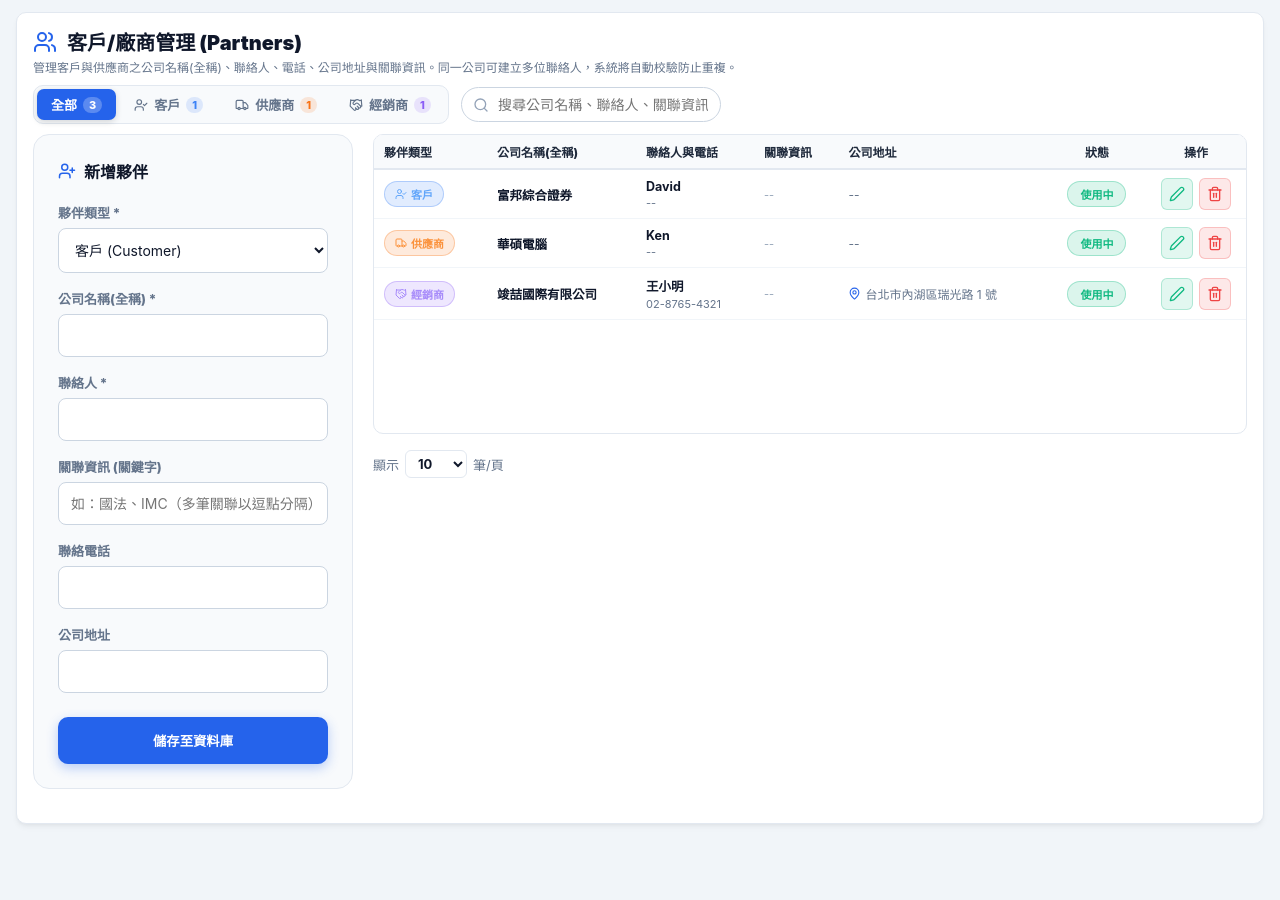
Test: 客戶/廠商管理：經銷商 › 列表上標示為經銷商，並有經銷商篩選
Check: the text "經銷商" is shown, box x1=384 y1=280 x2=455 y2=306
Click the button "經銷商 1" at (390, 104), box x1=335 y1=89 x2=445 y2=120
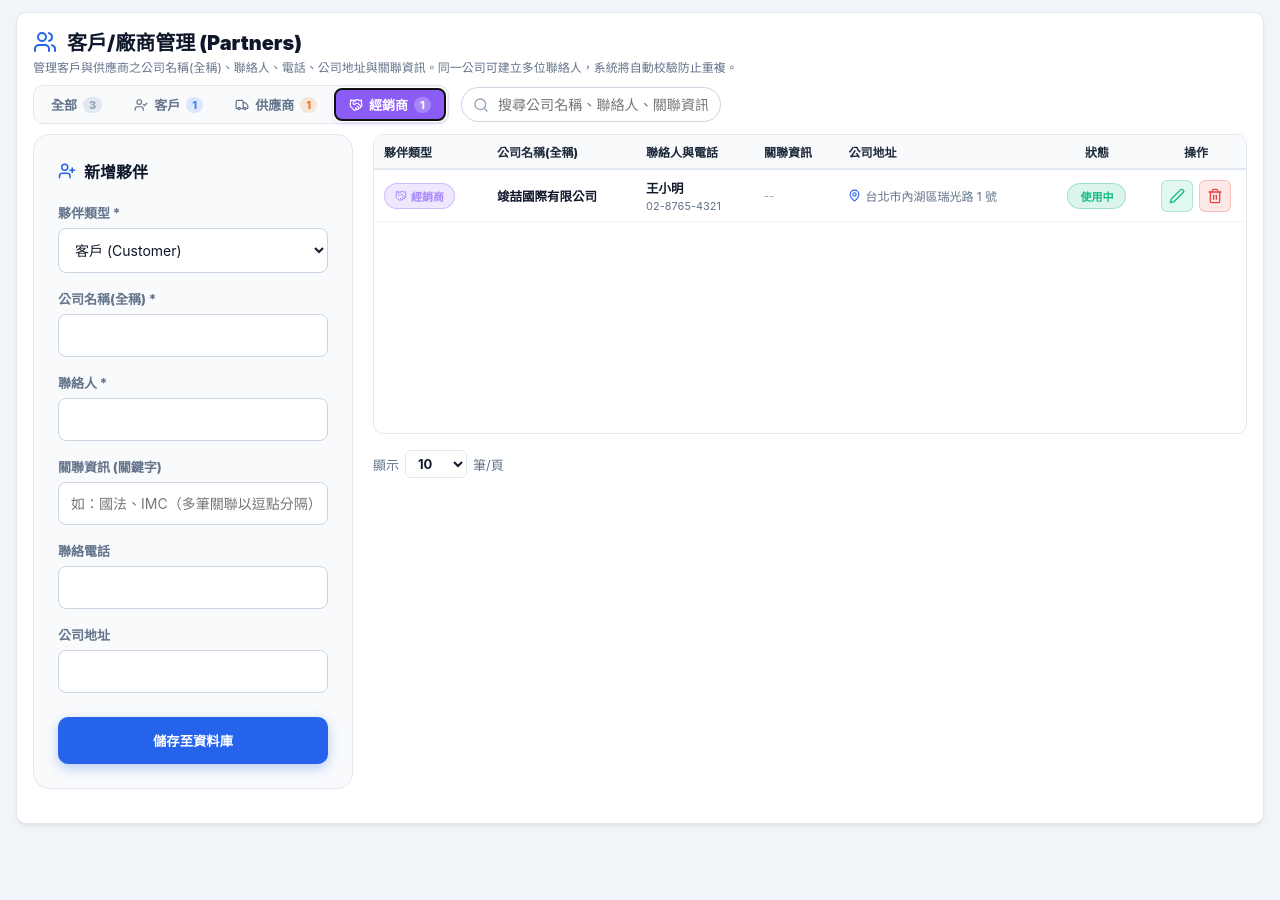
Check: the text "竣喆國際有限公司" is shown, box x1=487 y1=169 x2=636 y2=222
Check: the text "華碩電腦" is gone
